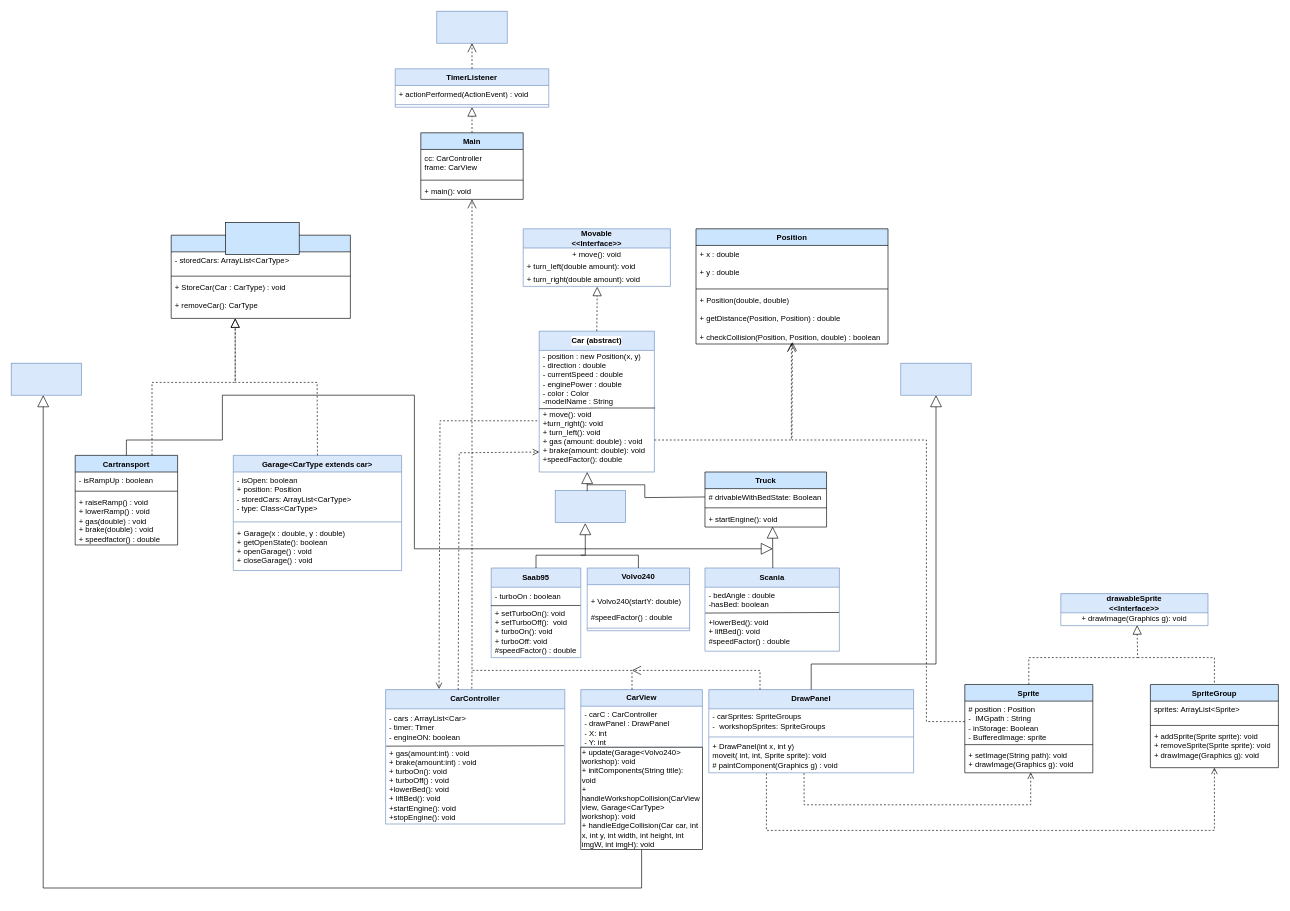
This 1290x911 diagram has some shape labels left out. The centre of each missing label's shape, as x and y in pixels:
ActionListener <<interFace>>: [471,27]
JFrame: [46,379]
JPanel: [935,379]
PassengerCar: [590,506]
«interface» StorageEntity: [262,238]
